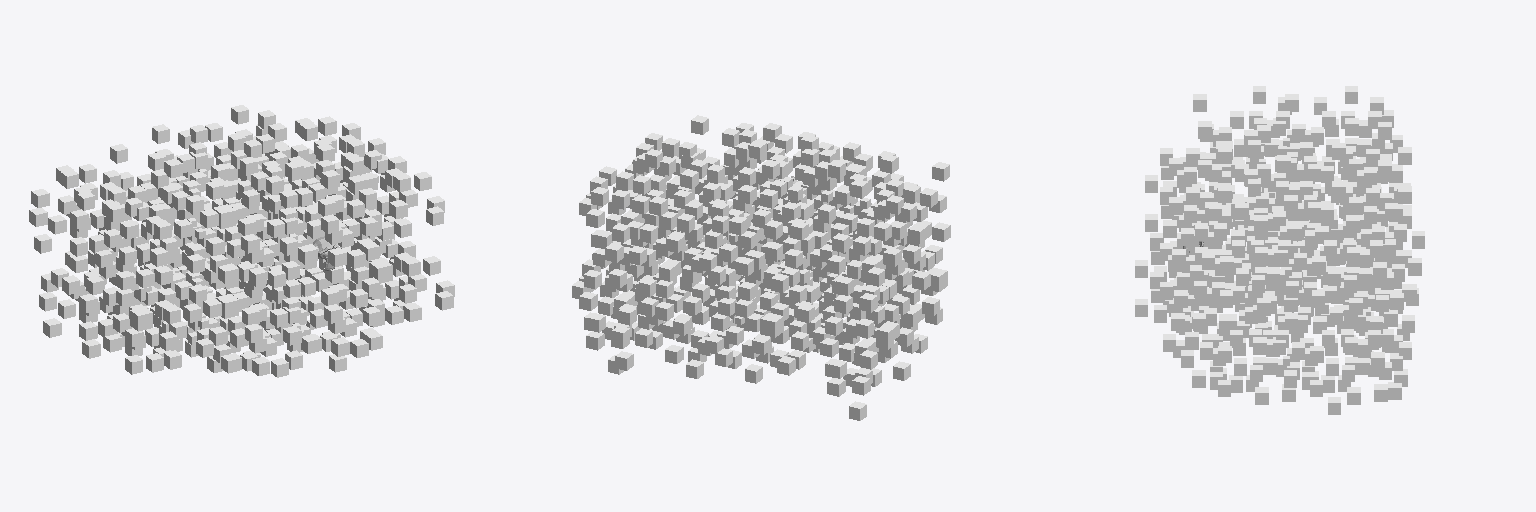
File: box_world.obj
3 views of the same model, side by side, from view 1: azimuth 30°, elevation 25°; view 2: azimuth 150°, elevation 25°; view 3: azimuth 270°, elevation 25° (orthographic).
Size of the model in its own units: 36.65 by 19.97 by 27.44.